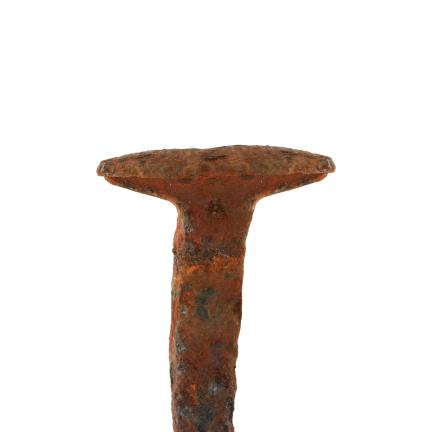karat: (97, 145, 335, 432)
